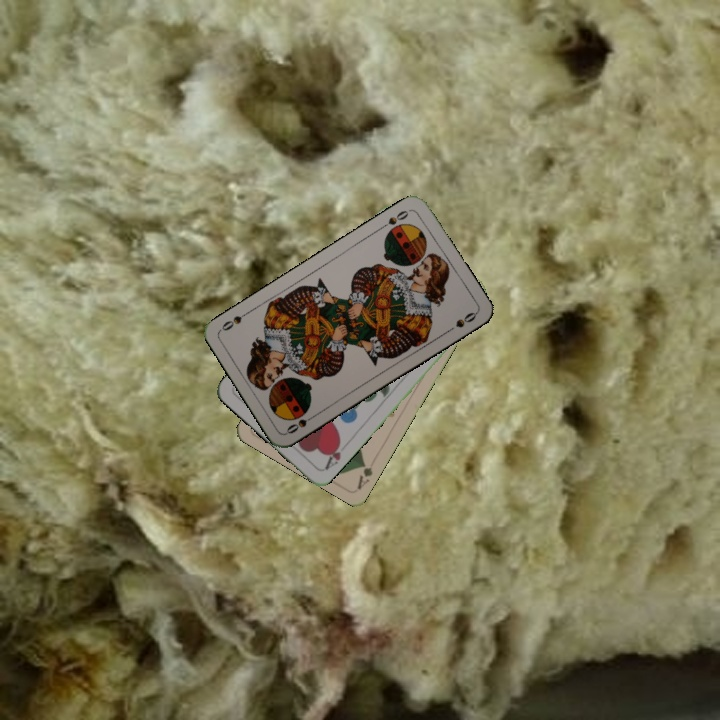GA: (353, 458, 375, 492)
HA: (320, 436, 344, 473)
SO: (376, 205, 413, 232), (282, 410, 319, 436)
